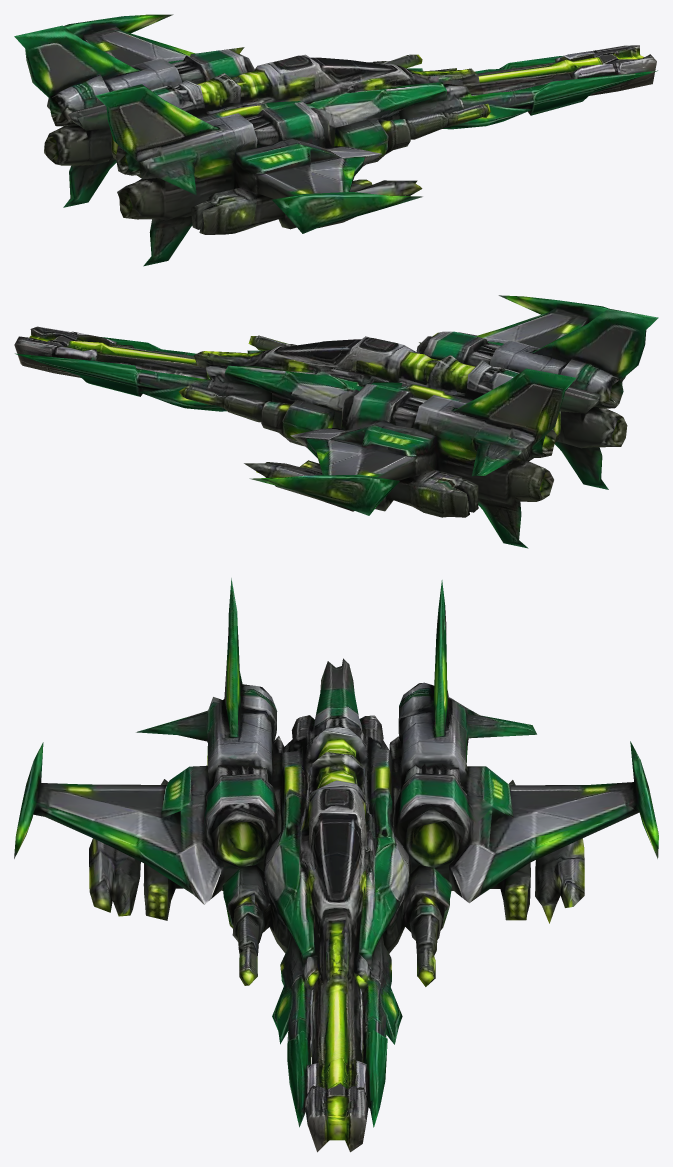
The model's file is talon.glb.
The picture shows the model from 3 angles, top to bottom: view 1: azimuth 30°, elevation 25°; view 2: azimuth 150°, elevation 25°; view 3: azimuth 270°, elevation 25°; orthographic projection. The views are drawn at different scales.
Parts seen in each view (by area): view 1: tripo_node_49afc613-ad7f-47ad-bd26-e7210b2cfbe6; view 2: tripo_node_49afc613-ad7f-47ad-bd26-e7210b2cfbe6; view 3: tripo_node_49afc613-ad7f-47ad-bd26-e7210b2cfbe6.
Boxes of the visible parts, x1,y1,x2,y2 form: tripo_node_49afc613-ad7f-47ad-bd26-e7210b2cfbe6: (14, 14, 657, 266); tripo_node_49afc613-ad7f-47ad-bd26-e7210b2cfbe6: (14, 295, 658, 548); tripo_node_49afc613-ad7f-47ad-bd26-e7210b2cfbe6: (14, 578, 658, 1152).
Bounding box in the file's own units: 0.9795 × 0.29 × 0.7157.
1 material, 1 textured.
